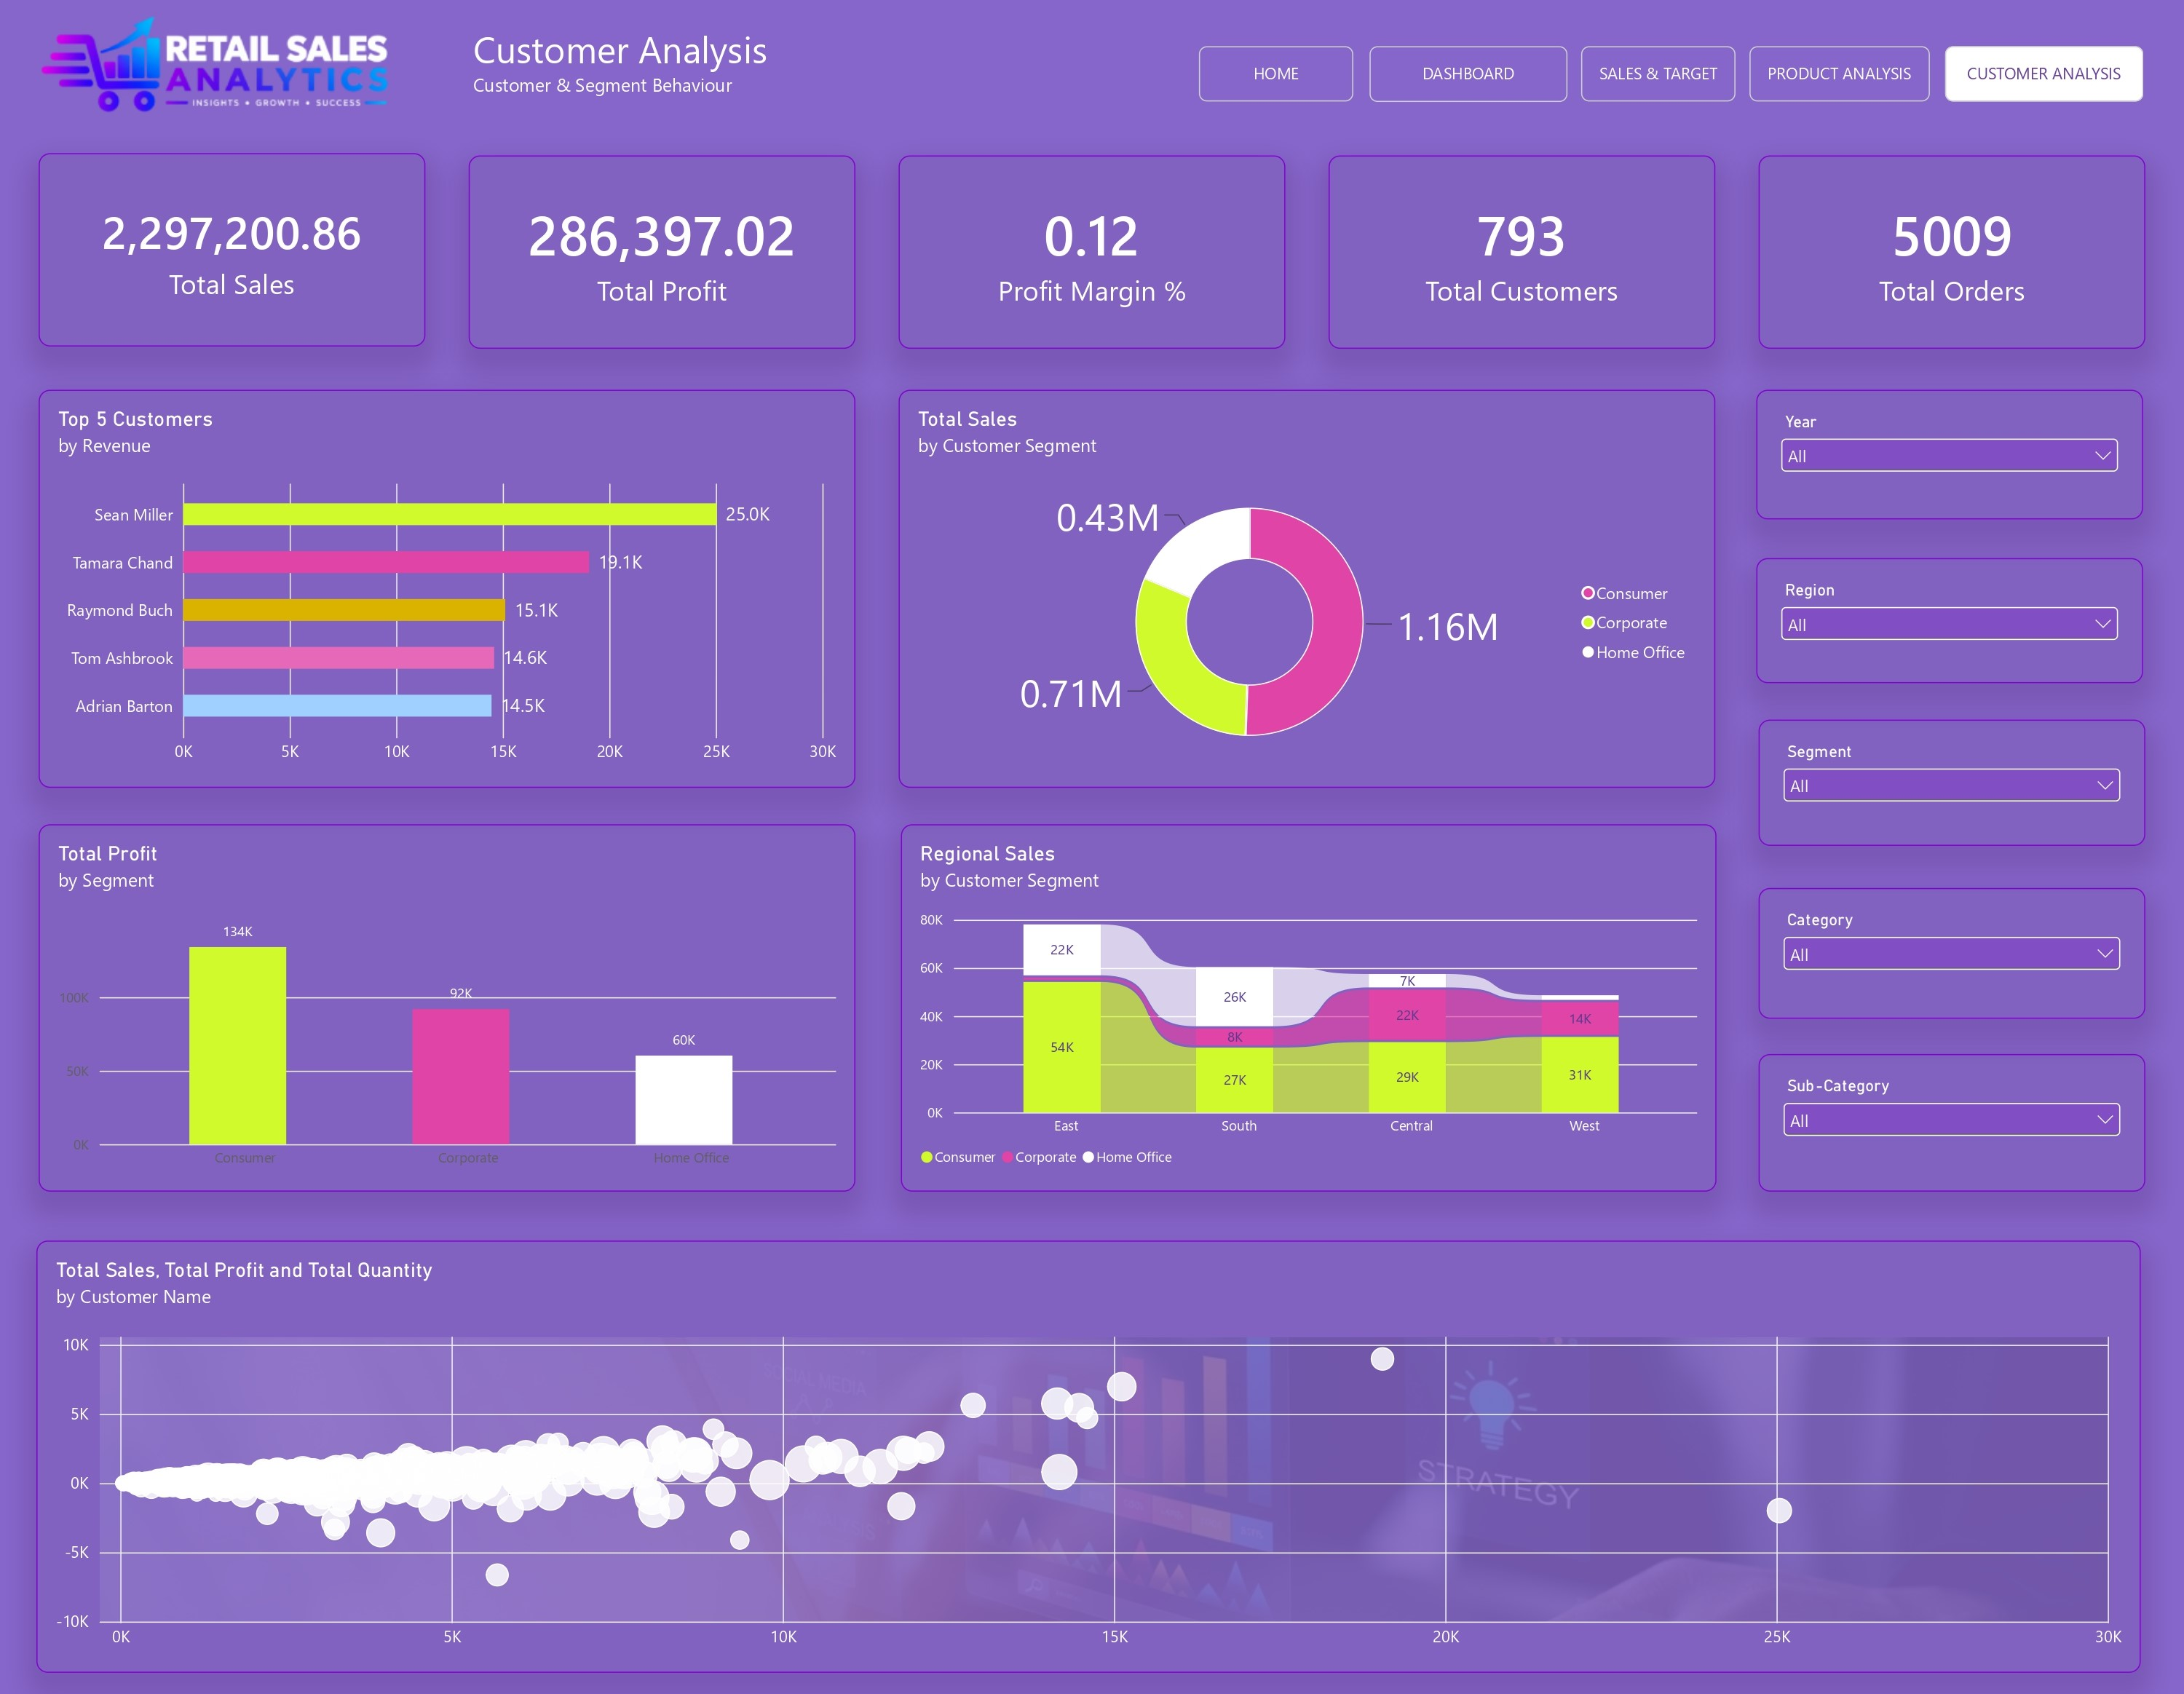

What the dashboard file says about the page in this screenshot:
{"tool":"powerbi","page":{"name":"Customer Analysis","canvas":[1920,1500],"ordinal":4},"visuals":[{"type":"textbox","box":[415.7,25.7,274.3,75.7],"z":0},{"type":"card","fields":{"Values":["FactSales.Total Sales"]},"box":[34,140,340,170],"z":1000},{"type":"card","fields":{"Values":["FactSales.Total Profit"]},"box":[412.2,141.3,340,170],"z":2000},{"type":"card","fields":{"Values":["FactSales.Profit Margin %"]},"box":[790.3,141.3,340,170],"z":3000},{"type":"card","fields":{"Values":["FactSales.Total Customers"]},"box":[1168.5,141.3,340,170],"z":4000},{"type":"card","fields":{"Values":["FactSales.Total Orders"]},"box":[1546.7,141.3,340,170],"z":5000},{"type":"barChart","title":"Top 5 Customers","fields":{"Category":["FactSales.Customer Name"],"Y":["FactSales.Total Sales"]},"box":[34,348,718,350],"z":6000},{"type":"donutChart","title":"Total Sales ","fields":{"Category":["FactSales.Segment"],"Y":["FactSales.Total Sales"]},"box":[790,348,718,350],"z":7000},{"type":"clusteredColumnChart","title":"Total Profit","fields":{"Category":["FactSales.Segment"],"Y":["FactSales.Total Profit"]},"box":[33.3,730,718.3,323.3],"z":8000},{"type":"columnChart","title":"Regional Sales","fields":{"Category":["FactSales.Region"],"Series":["FactSales.Segment"],"Y":["FactSales.Total Sales"]},"box":[791.7,730,716.7,323.3],"z":9000},{"type":"slicer","fields":{"Values":["DimDate.Year"]},"box":[1543.5,348.8,340,113.8],"z":10000},{"type":"slicer","fields":{"Values":["FactSales.Region"]},"box":[1544.7,495,340,110],"z":11000},{"type":"slicer","fields":{"Values":["FactSales.Segment"]},"box":[1546.2,638.8,340,111.2],"z":12000},{"type":"slicer","fields":{"Values":["FactSales.Category"]},"box":[1546.2,785,340,115],"z":13000},{"type":"slicer","fields":{"Values":["FactSales.Sub-Category"]},"box":[1546.2,932.5,340,121.2],"z":14000},{"type":"scatterChart","fields":{"Category":["FactSales.Customer Name"],"Size":["FactSales.Total Quantity"],"X":["FactSales.Total Sales"],"Y":["FactSales.Total Profit"]},"box":[32.5,1095,1850,380],"z":15000},{"type":"actionButton","box":[1054.6,45.7,135.7,48.6],"z":16000},{"type":"actionButton","box":[1389.7,45.7,135.7,48.6],"z":17000},{"type":"actionButton","box":[1538,45.7,158.6,48.6],"z":18000},{"type":"actionButton","box":[1709.2,45.7,174.3,48.6],"z":19000},{"type":"actionButton","box":[1203,46,174,49],"z":20000},{"type":"image","box":[32.9,5.7,315.7,110],"z":20001}]}

Visuals, with their boxes in screenshot pixels (x1, y1, x2, y2), scaled from the page's 1920x1500 canvas onto the 2184x1694 screenshot:
textbox: bbox(473, 29, 785, 114)
card - FactSales.Total Sales: bbox(39, 158, 425, 350)
card - FactSales.Total Profit: bbox(469, 159, 855, 352)
card - FactSales.Profit Margin %: bbox(899, 159, 1286, 352)
card - FactSales.Total Customers: bbox(1329, 159, 1716, 352)
card - FactSales.Total Orders: bbox(1760, 159, 2146, 352)
"Top 5 Customers" barChart: bbox(39, 393, 855, 788)
"Total Sales " donutChart: bbox(898, 393, 1715, 788)
"Total Profit" clusteredColumnChart: bbox(38, 824, 855, 1190)
"Regional Sales" columnChart: bbox(901, 824, 1716, 1190)
slicer - DimDate.Year: bbox(1756, 394, 2143, 523)
slicer - FactSales.Region: bbox(1757, 559, 2144, 684)
slicer - FactSales.Segment: bbox(1759, 721, 2145, 847)
slicer - FactSales.Category: bbox(1759, 887, 2145, 1016)
slicer - FactSales.Sub-Category: bbox(1759, 1053, 2145, 1190)
scatterChart - FactSales.Customer Name x FactSales.Total Quantity: bbox(37, 1237, 2141, 1666)
actionButton: bbox(1200, 52, 1354, 106)
actionButton: bbox(1580, 52, 1735, 106)
actionButton: bbox(1749, 52, 1930, 106)
actionButton: bbox(1944, 52, 2143, 106)
actionButton: bbox(1369, 52, 1567, 107)
image: bbox(37, 7, 397, 130)
